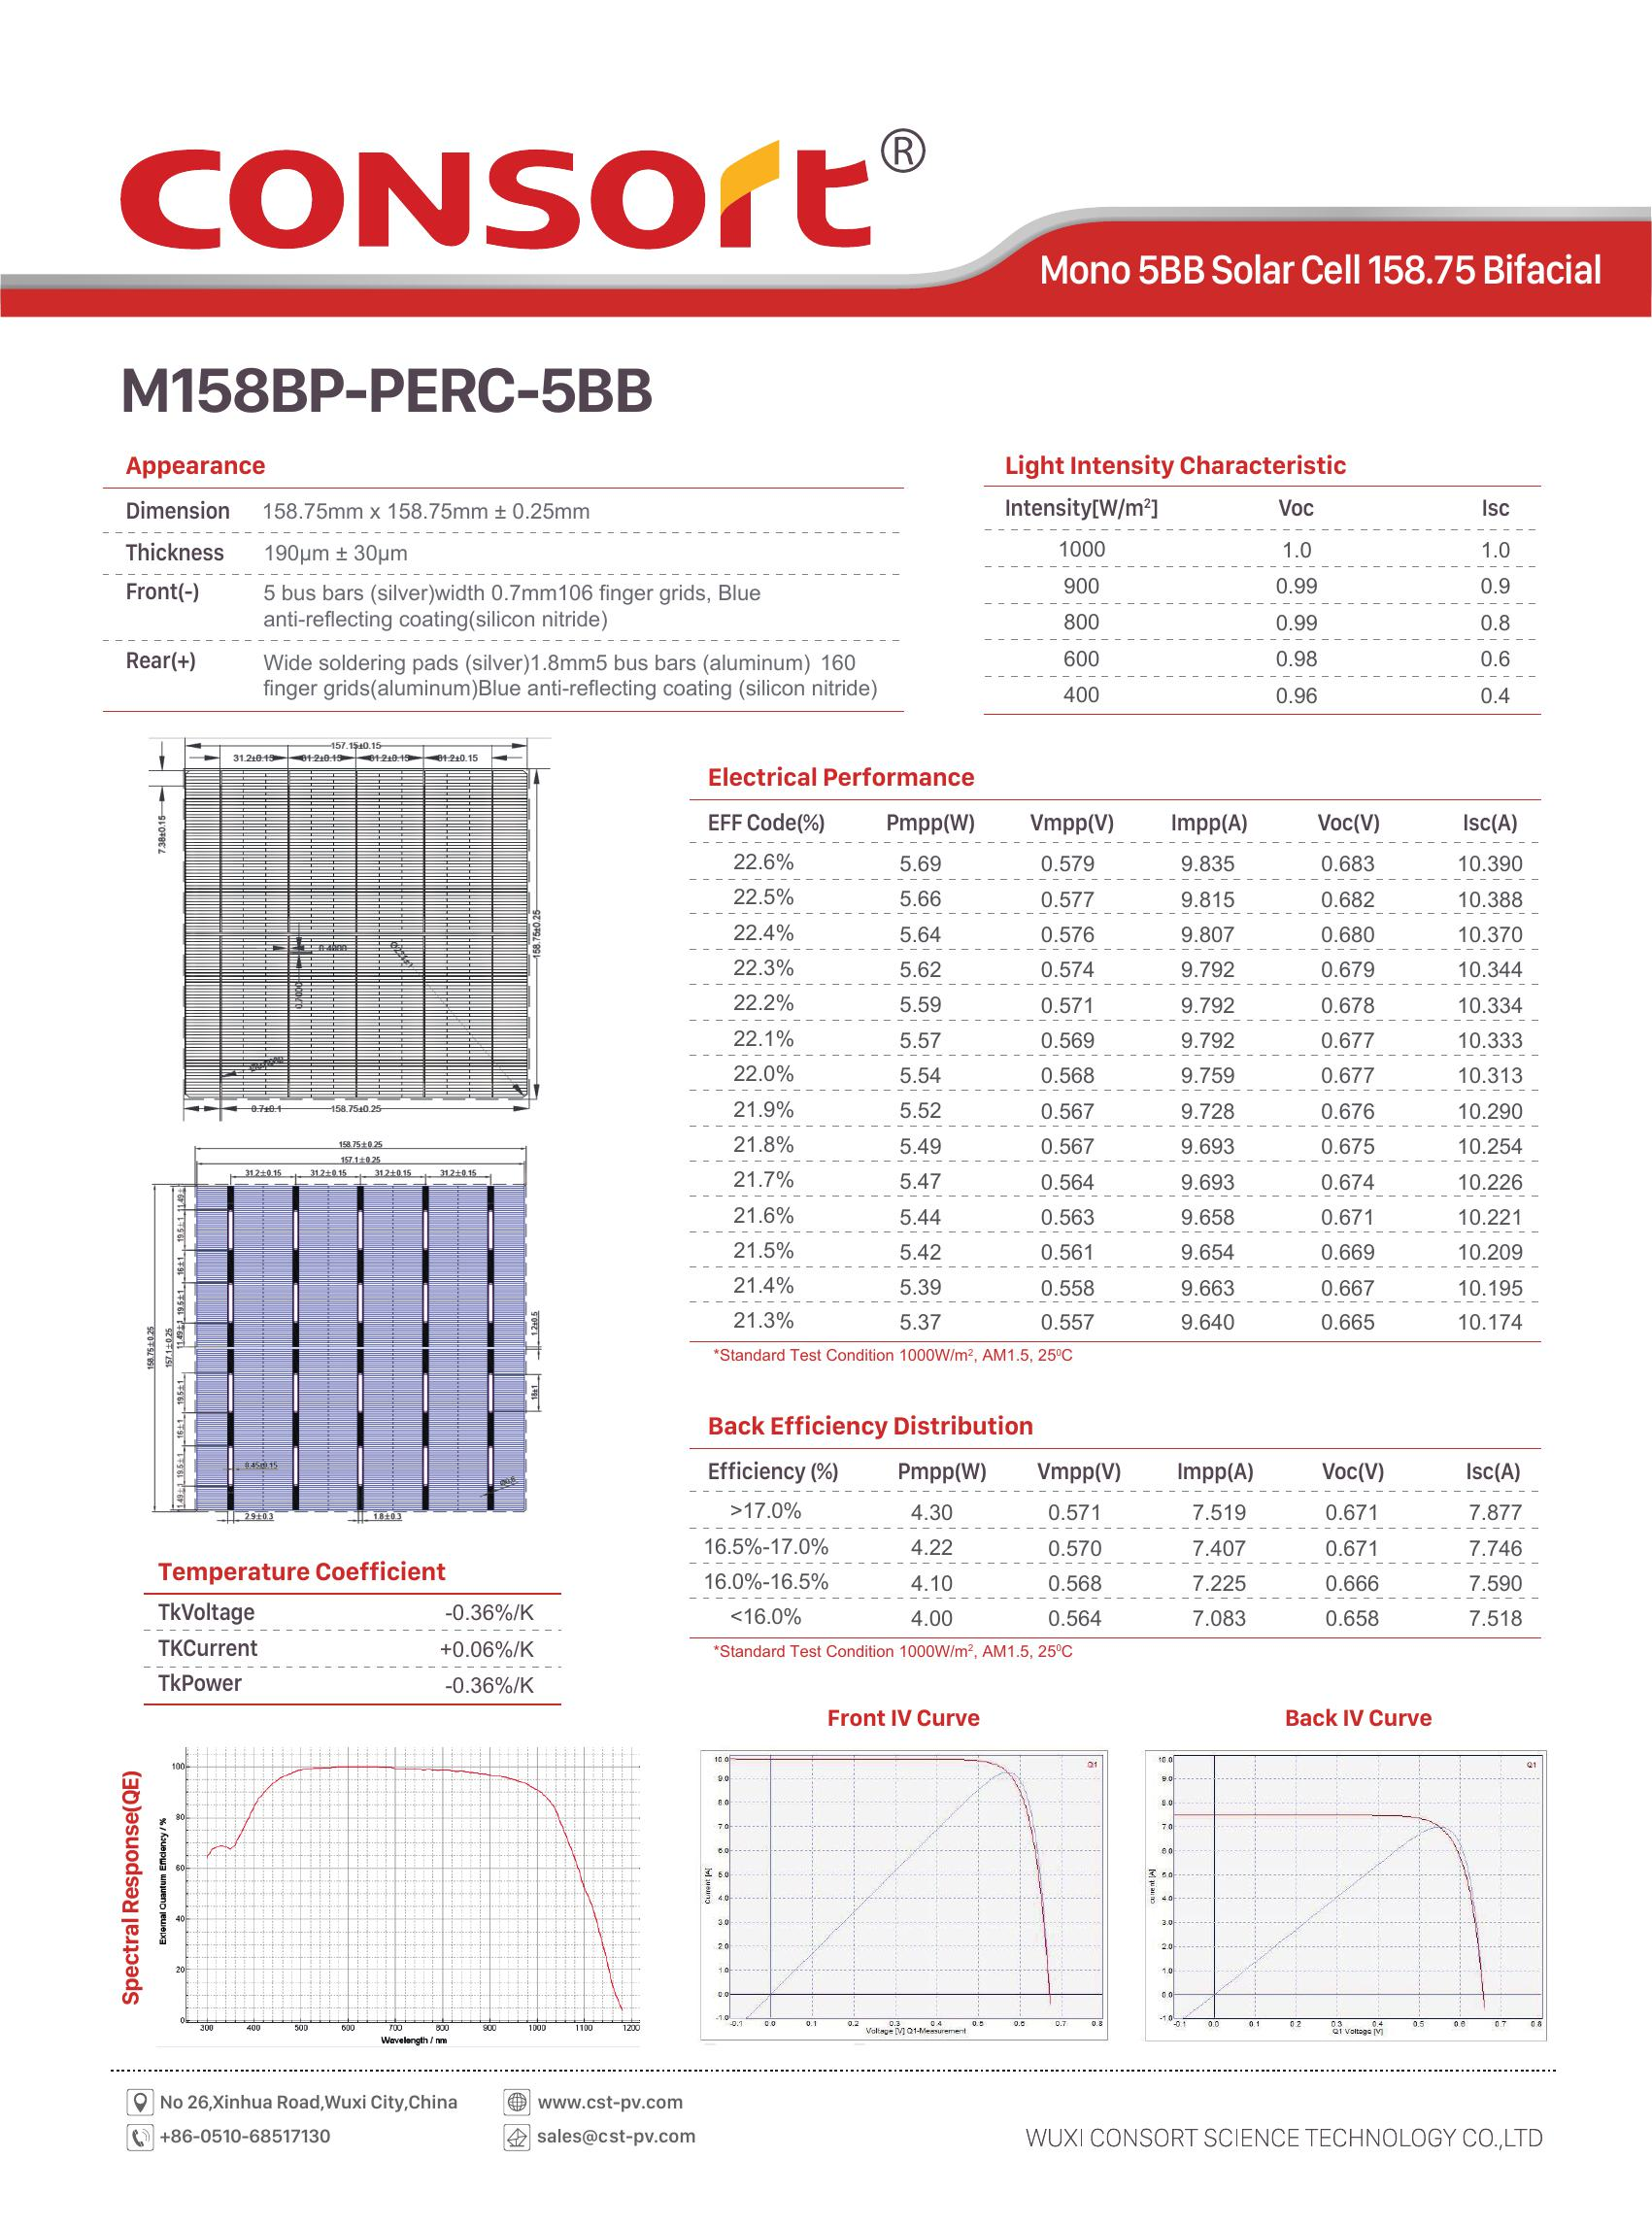table: (687, 793, 1563, 1369), (101, 481, 927, 725), (678, 1440, 1553, 1666), (973, 481, 1560, 727), (135, 1586, 581, 1712)
